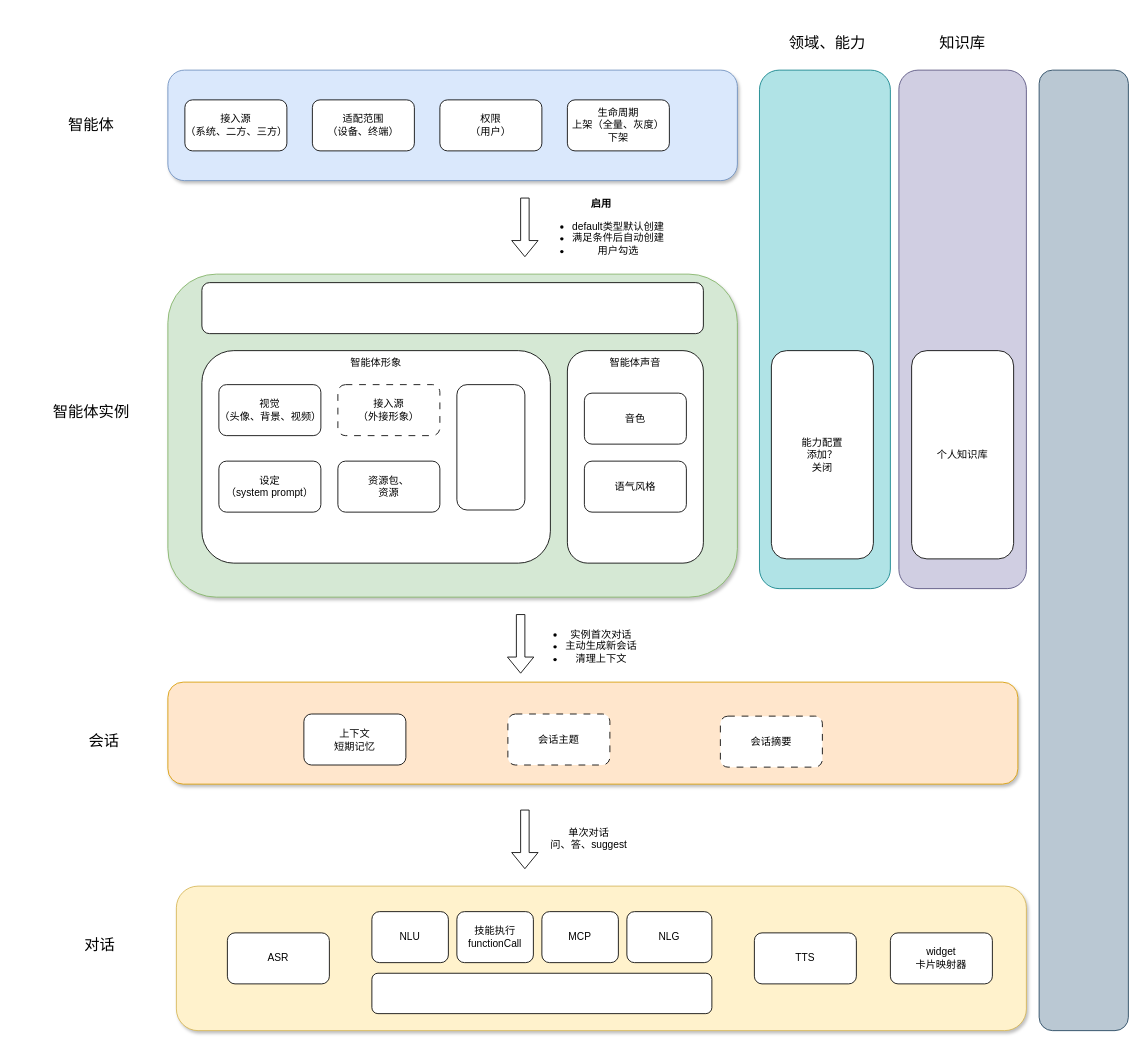
Some shapes in this 1143 by 1051 pixel diagram are drawn without their labels. Each missing label, with the centre of its shape:
"外部调用" goes at pixel 541 993.
"实例配置（user + botId + clientId ）" goes at pixel 452 308.
"工作流" goes at pixel 1083 550.
"生命周期 管理 、 授权" goes at pixel 490 447.
